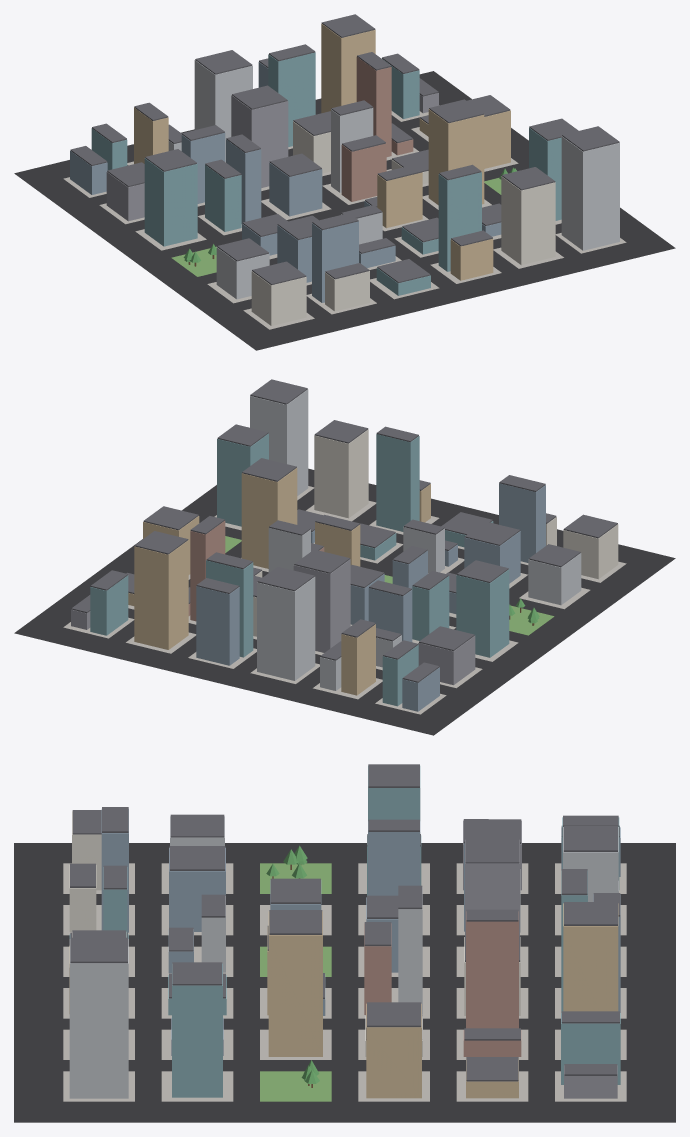
The model's file is city.glb.
3 renders of one model, top to bottom at view 1: azimuth 30°, elevation 25°; view 2: azimuth 150°, elevation 25°; view 3: azimuth 270°, elevation 25°, orthographic. The views are drawn at different scales.
Parts seen in each view (by area): view 1: Ground_Asphalt, Building_5_0_0, Building_4_0_0, Building_0_3_0, Building_4_2_0, Building_4_5_0, Building_3_0_1, Building_2_4_0, Building_2_5_0, Building_3_5_0, Building_1_0_1, Building_0_0_0 (+43 smaller); view 2: Ground_Asphalt, Building_2_5_0, Building_4_5_0, Building_4_0_0, Building_3_0_1, Building_4_2_0, Building_0_3_0, Building_5_0_0, Building_3_5_1, Building_2_4_0, Building_5_1_0, Building_1_0_1 (+36 smaller); view 3: Ground_Asphalt, Building_5_0_0, Building_4_2_0, Building_5_1_0, Building_4_4_0, Building_4_5_0, Building_5_3_0, Building_1_3_1, Building_2_4_0, Building_5_5_0, Building_1_1_0, Building_3_3_1 (+58 smaller).
Part boxes in pixels (box(x1,y1,x2,y2)): Ground_Asphalt: box(14, 71, 675, 350); Building_5_0_0: box(561, 136, 619, 250); Building_4_0_0: box(501, 176, 555, 264); Building_0_3_0: box(144, 158, 197, 246); Building_4_2_0: box(428, 109, 484, 205); Building_4_5_0: box(321, 23, 375, 113); Building_3_0_1: box(438, 172, 481, 271); Building_2_4_0: box(231, 95, 288, 187); Building_2_5_0: box(194, 60, 252, 161); Building_3_5_0: box(268, 52, 315, 146); Building_1_0_1: box(312, 221, 358, 302); Building_0_0_0: box(251, 271, 306, 325); Ground_Asphalt: box(14, 468, 675, 735); Building_2_5_0: box(257, 577, 315, 680); Building_4_5_0: box(134, 540, 188, 649); Building_4_0_0: box(314, 429, 368, 518); Building_3_0_1: box(376, 434, 419, 531); Building_4_2_0: box(241, 468, 297, 568); Building_0_3_0: box(456, 569, 509, 657); Building_5_0_0: box(250, 389, 308, 495); Building_3_5_1: box(196, 586, 239, 665); Building_2_4_0: box(293, 559, 350, 652); Building_5_1_0: box(217, 433, 268, 526); Building_1_0_1: box(499, 483, 545, 562); Ground_Asphalt: box(14, 843, 675, 1122); Building_5_0_0: box(69, 939, 128, 1098); Building_4_2_0: box(268, 911, 322, 1056); Building_5_1_0: box(172, 963, 222, 1097); Building_4_4_0: box(466, 911, 518, 1028); Building_4_5_0: box(563, 903, 618, 1011); Building_5_3_0: box(366, 1003, 421, 1098); Building_1_3_1: box(368, 821, 420, 895); Building_2_4_0: box(465, 840, 519, 935); Building_5_5_0: box(561, 1013, 620, 1084); Building_1_1_0: box(169, 847, 225, 931); Building_3_3_1: box(398, 887, 422, 1014).
Bounding box in the file's own units: 55.2 × 12.62 × 55.2.
